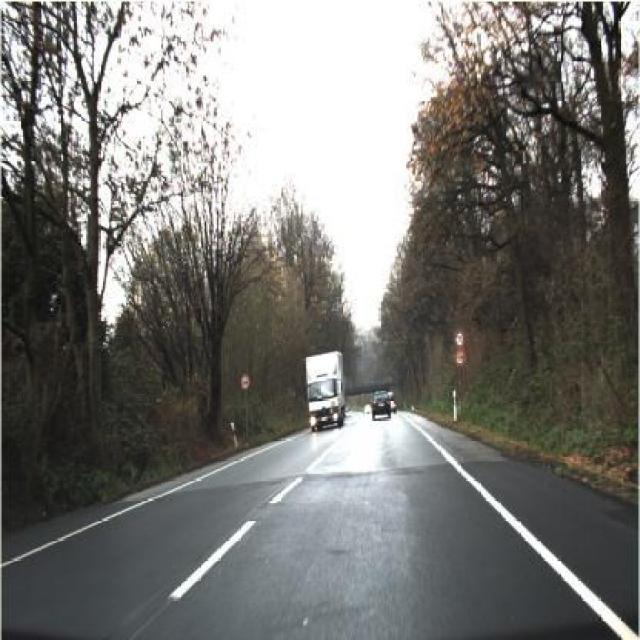Ograniczenie predkosci do 70: (454, 327, 466, 348)
